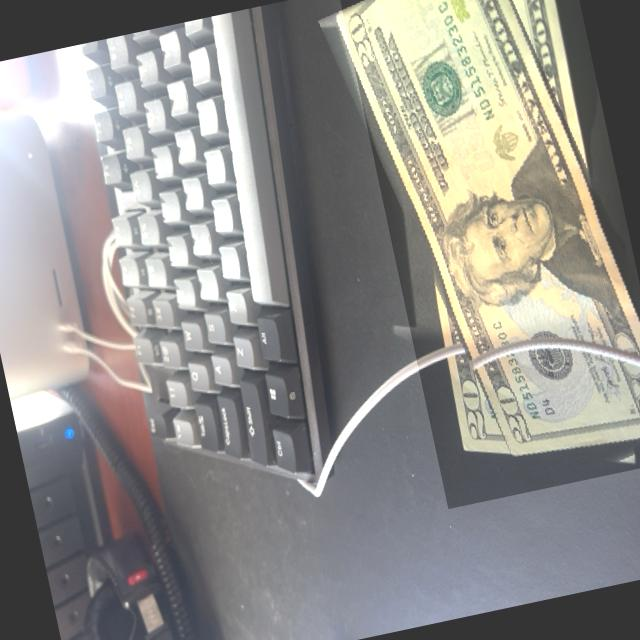twenty: (337, 0, 640, 508)
